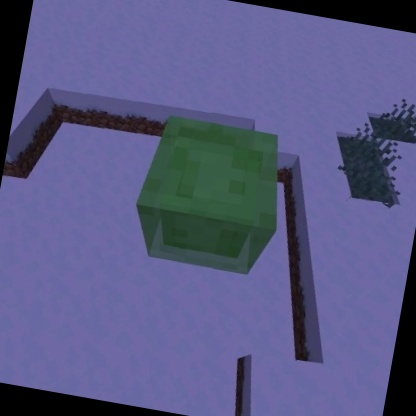slime: (122, 107, 299, 286)
